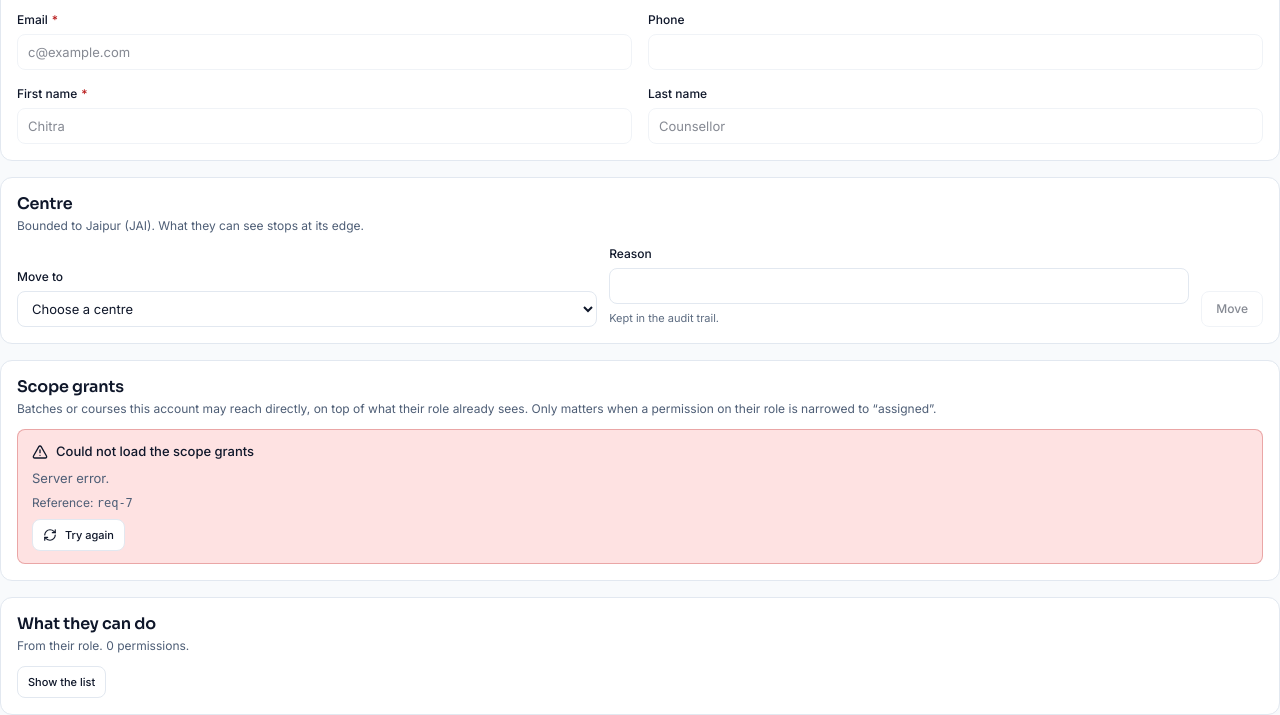
Test: Scope grants card › shows a failed read as an error with Retry, never as "No direct grants."
(page scrolled)
Expected: the text "Could not load the scope grants" is shown, [32, 443, 254, 460]
Expected: the text "No direct grants." is not shown
Click the button "Try again".
click(78, 535)  # box [32, 519, 125, 551]
(page scrolled)
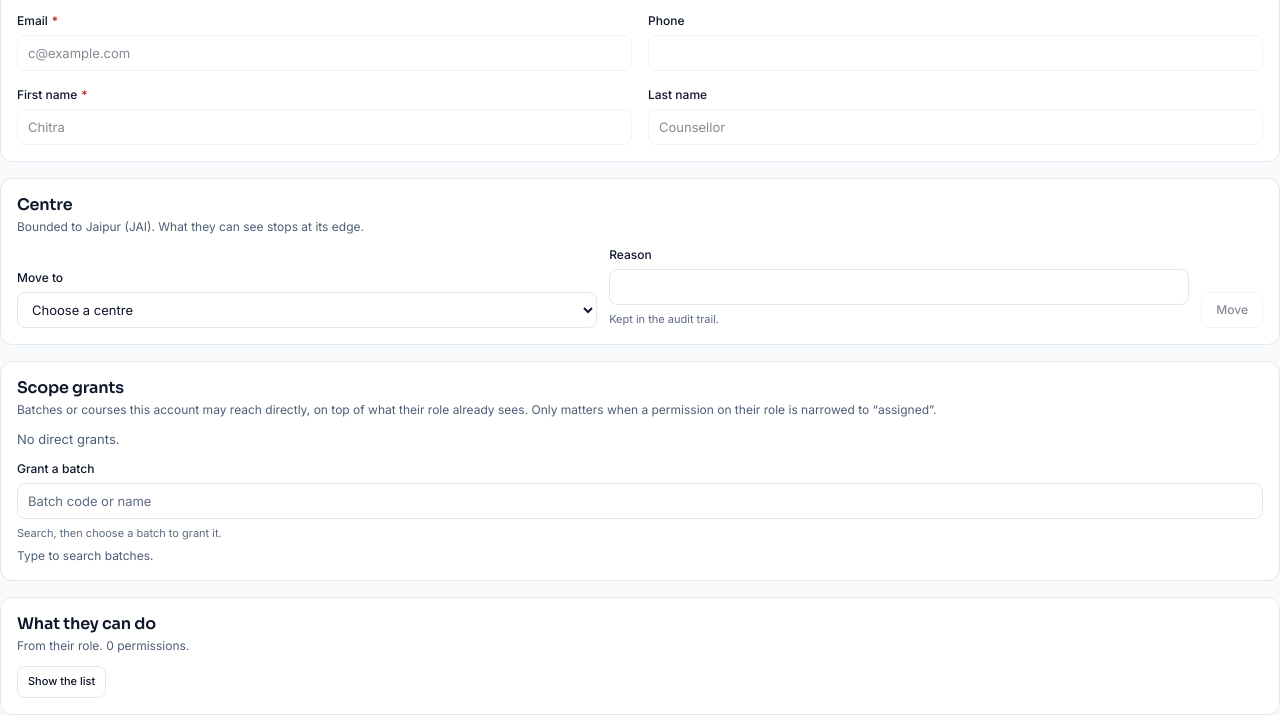
Now the text "No direct grants." is shown, box [17, 431, 120, 447]
